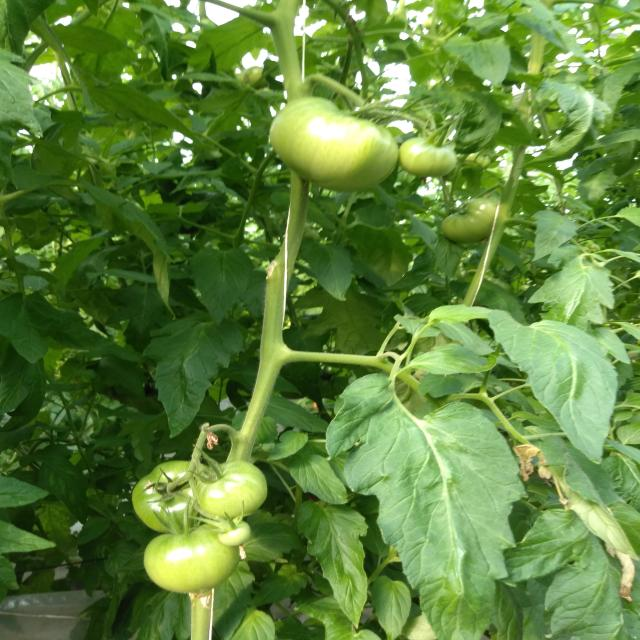yesil: (242, 68, 507, 218), (68, 411, 287, 575)
